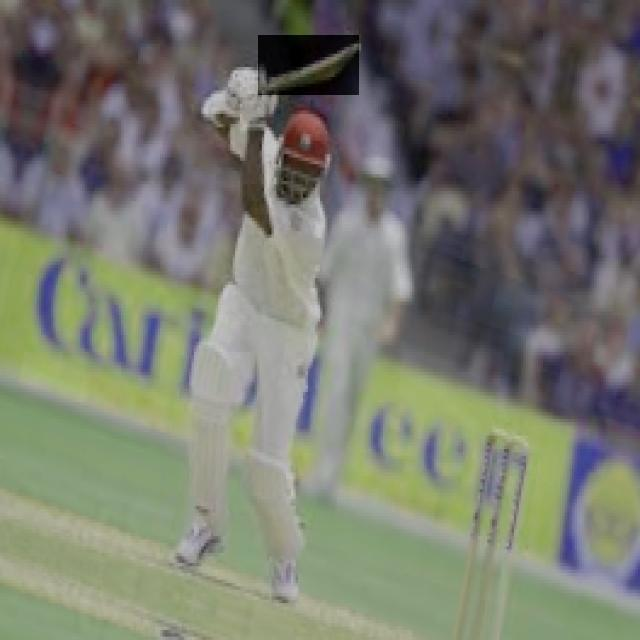bat: (260, 35, 361, 94)
